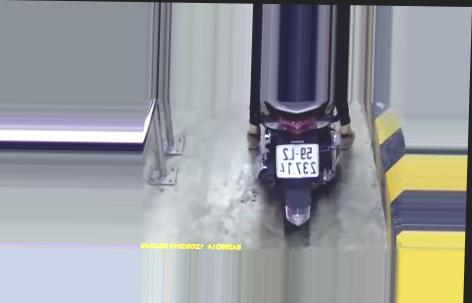License_Plate: (273, 140, 321, 181)
